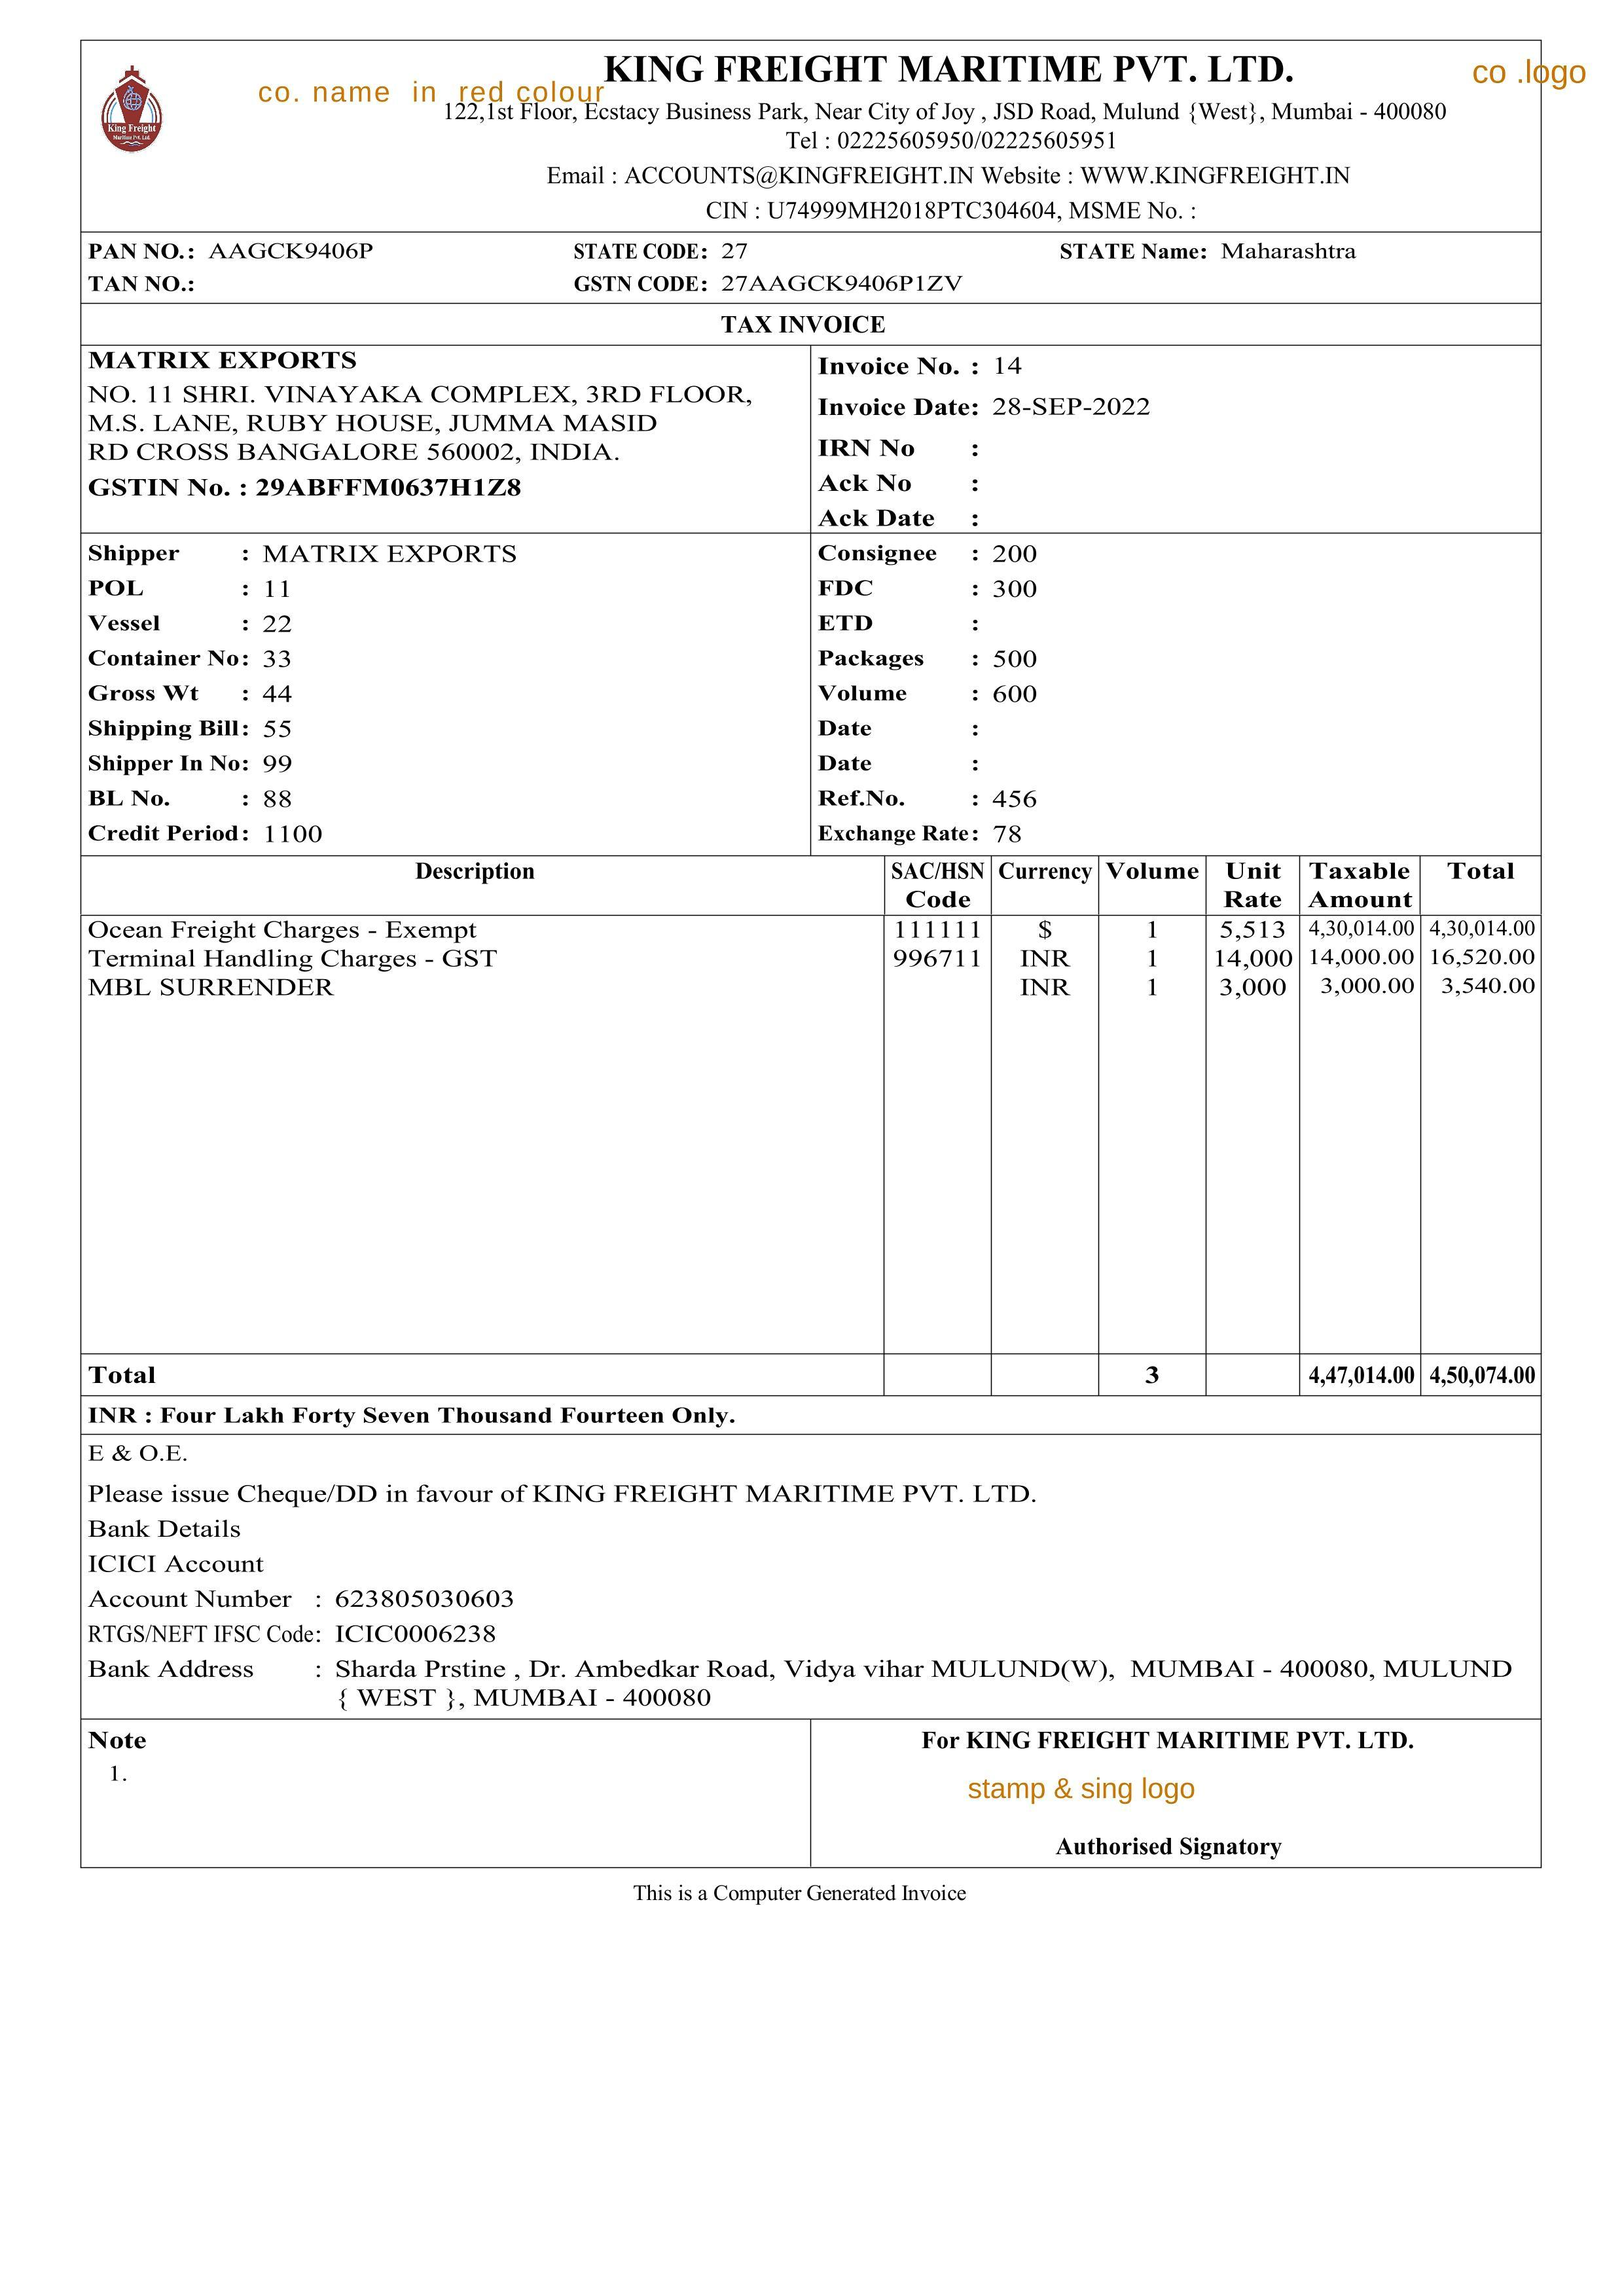InvoiceDate: (986, 385, 1176, 427)
InvoiceNumber: (1420, 1351, 1543, 1395), (988, 350, 1042, 378)
